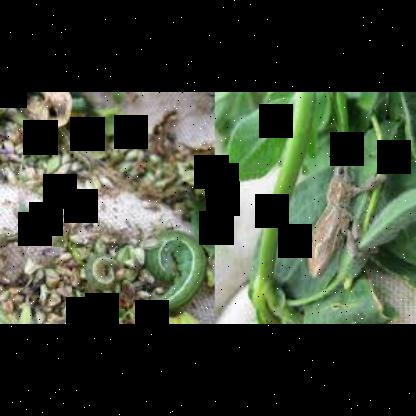oruga: (150, 235, 209, 320), (84, 247, 124, 291)
